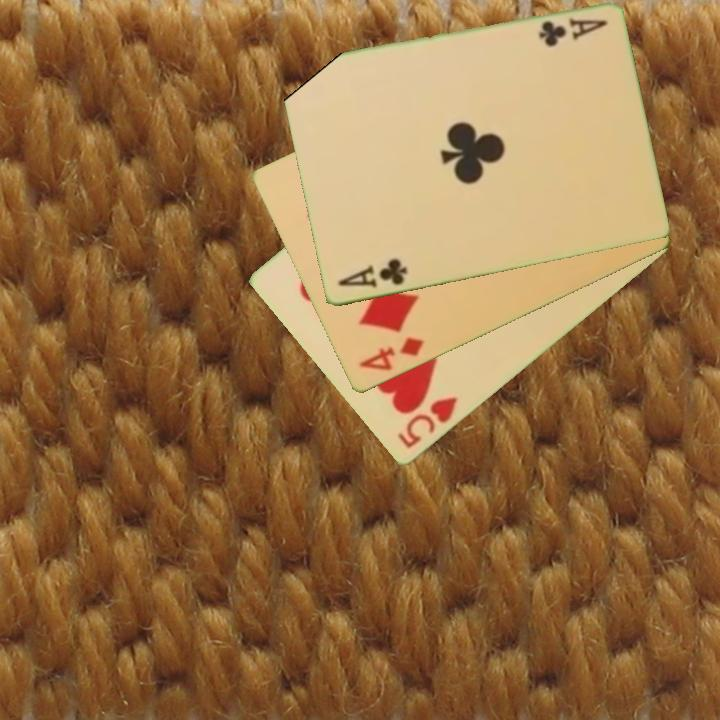4d: (355, 334, 427, 375)
5h: (393, 393, 460, 452)
Ac: (334, 255, 410, 291), (535, 15, 611, 49)
